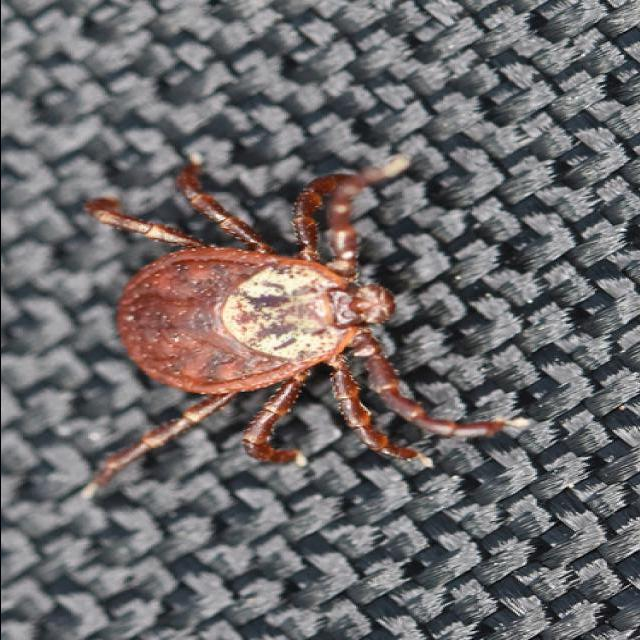Dermacentor Reticulatus-F: (84, 156, 520, 497)
